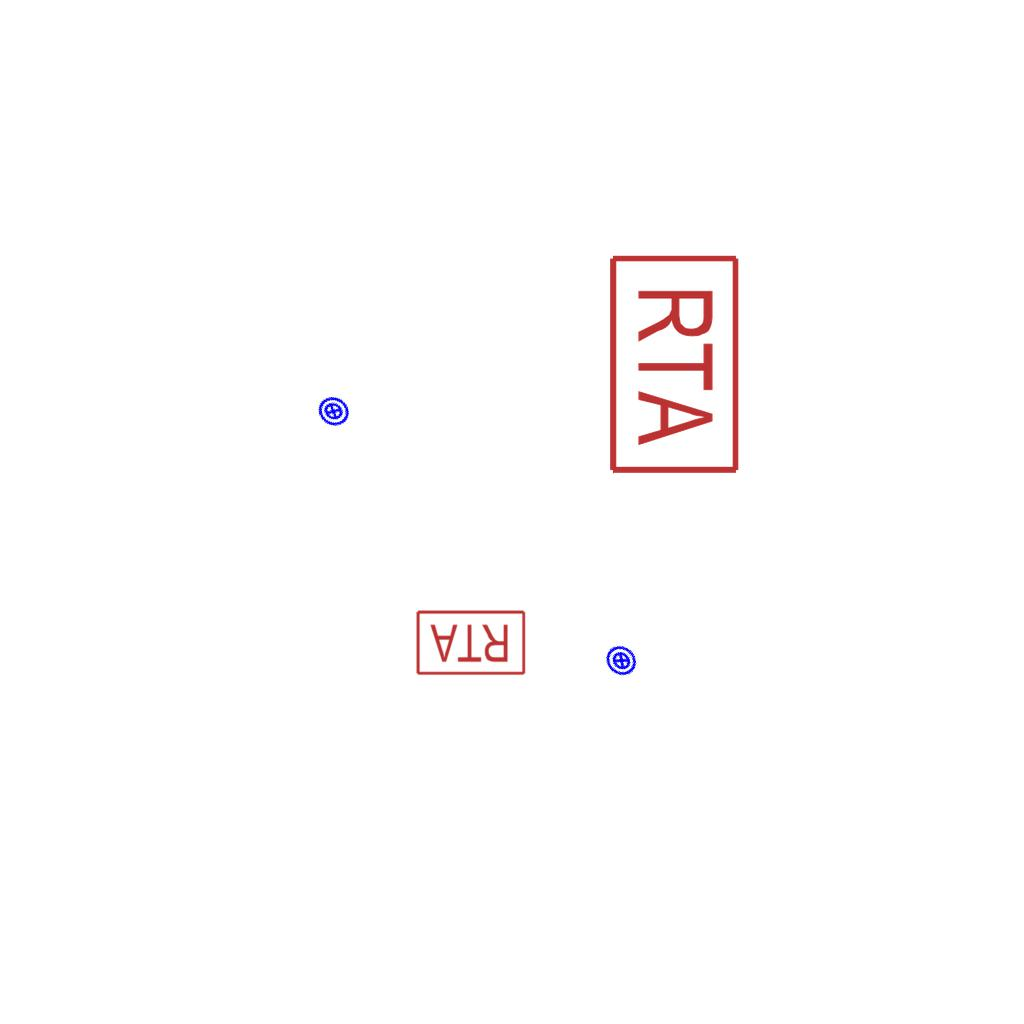Ruf-und_Abstelltaster: (605, 248, 743, 476), (415, 608, 529, 677)
Taster_beleuchtet: (598, 637, 645, 684), (311, 389, 356, 434)
